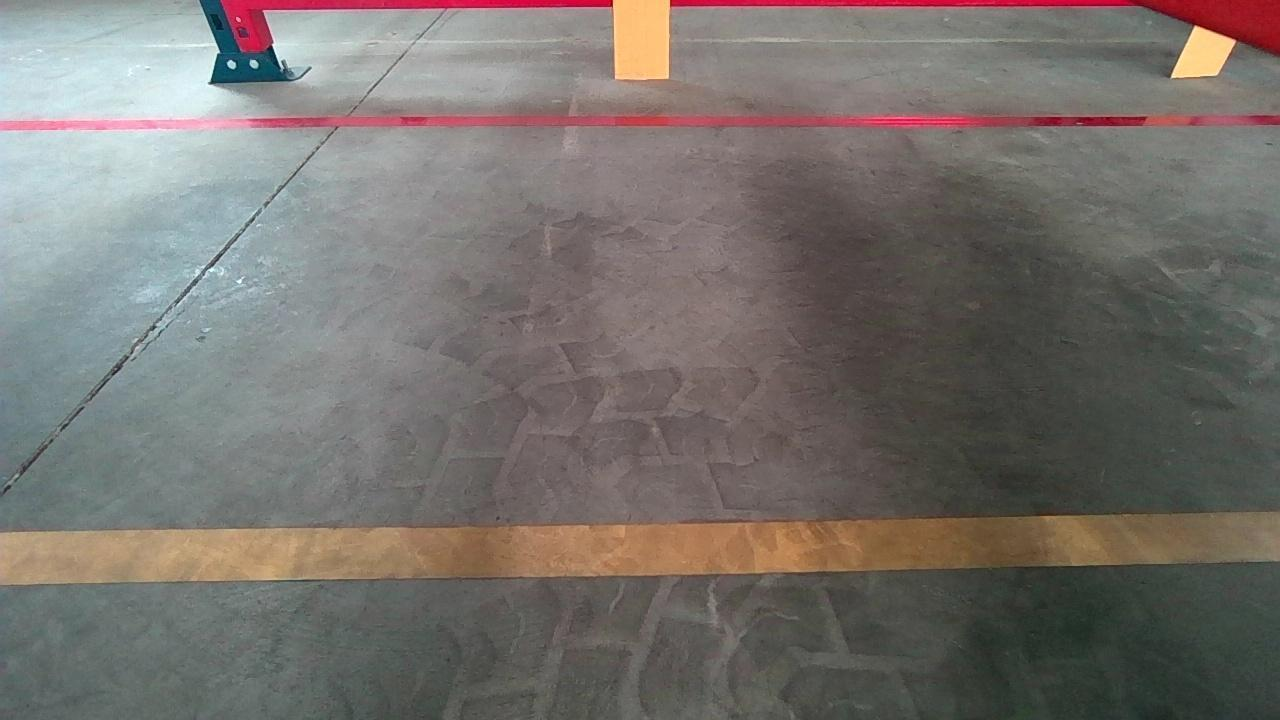red_line: (7, 108, 1268, 139)
yellow_line: (7, 510, 1268, 588)
